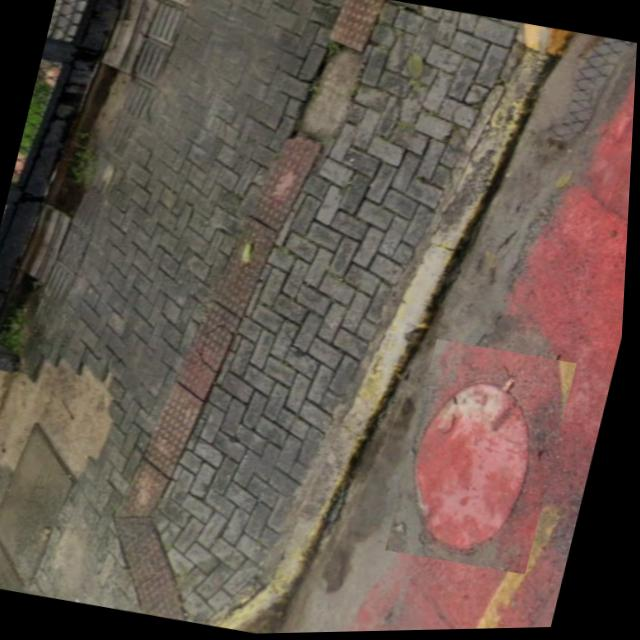Bueiro: (391, 338, 582, 579)
